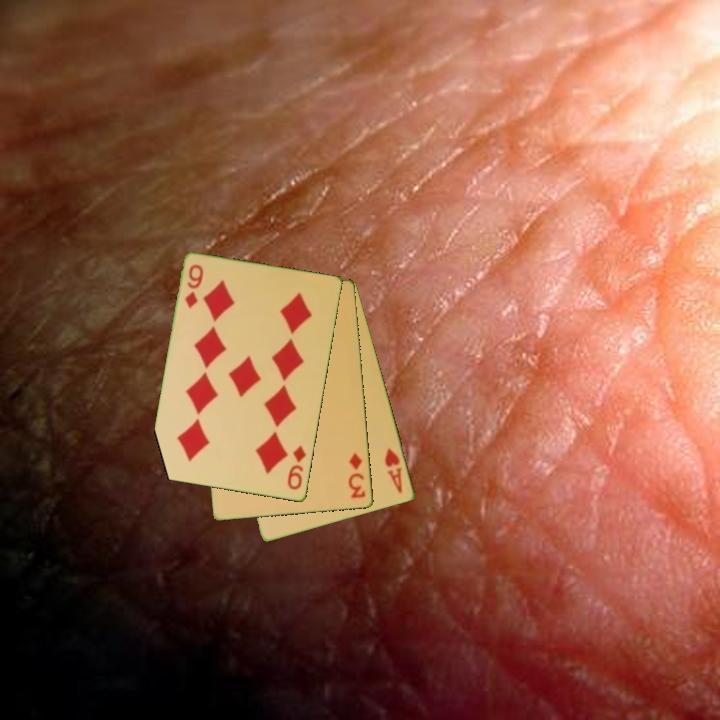3d: (345, 450, 369, 501)
9d: (284, 442, 309, 493), (182, 261, 206, 311)
Ah: (381, 445, 405, 496)
